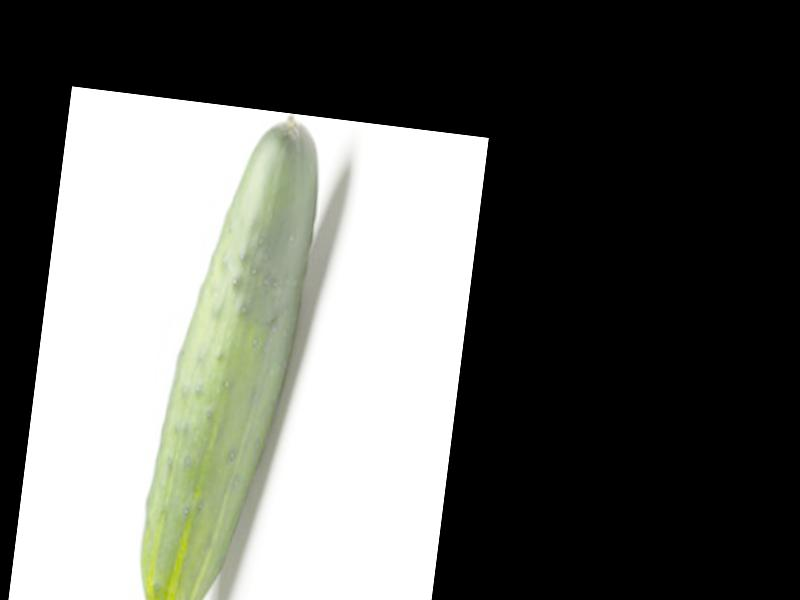Cucumber: (131, 103, 331, 600)
